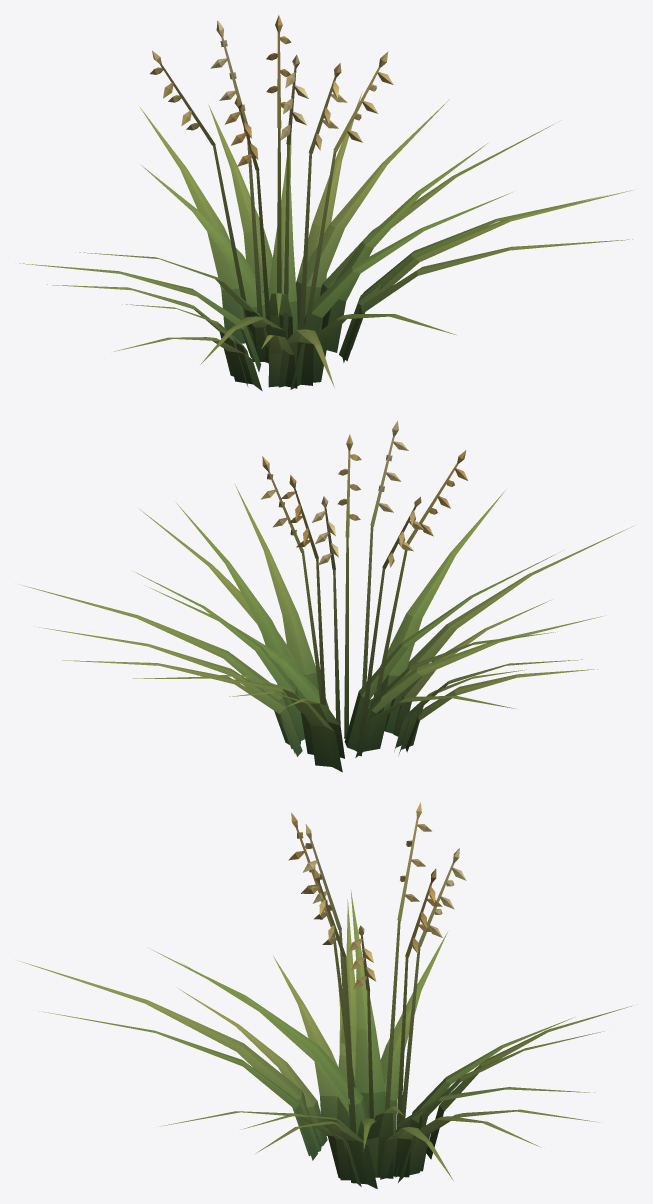
File: gk_grass_seedhead_clump.glb
3 views of the same model, one above another, from view 1: azimuth 30°, elevation 25°; view 2: azimuth 150°, elevation 25°; view 3: azimuth 270°, elevation 25° (orthographic). The views are drawn at different scales.
Visible parts, largest first — view 1: gk_grass_seedhead_clump; view 2: gk_grass_seedhead_clump; view 3: gk_grass_seedhead_clump.
Boxes of the visible parts, box(x1,y1,x2,y2) form: gk_grass_seedhead_clump: box(19, 15, 632, 391); gk_grass_seedhead_clump: box(20, 421, 634, 772); gk_grass_seedhead_clump: box(19, 802, 632, 1188).
Size of the model in its own units: 0.8122 by 0.4571 by 0.7965.
